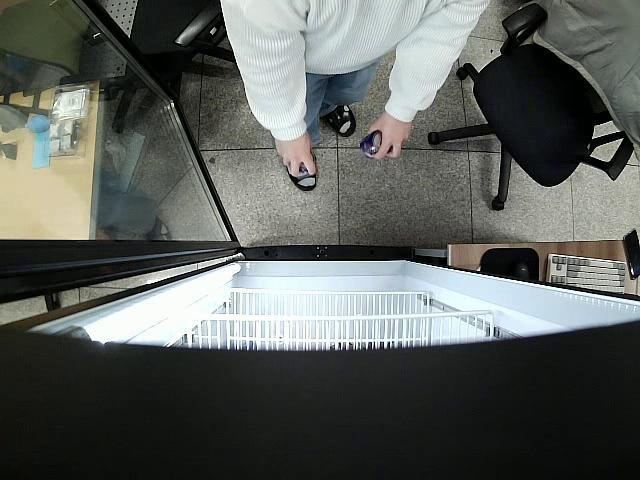14_welchsGrape: (360, 130, 390, 158)
